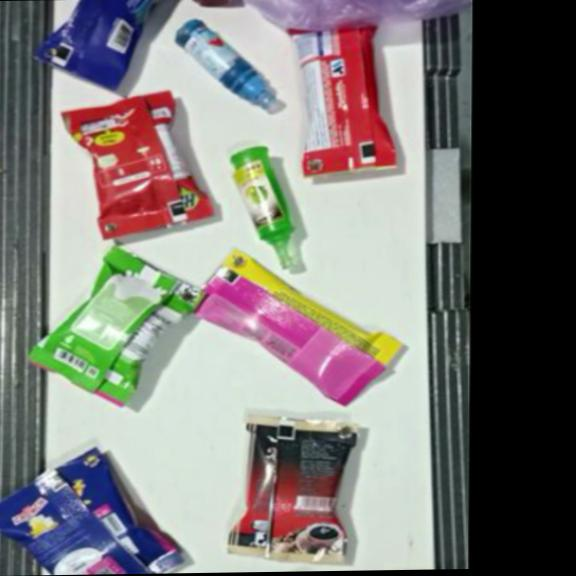Plastik: (193, 245, 404, 408), (29, 245, 207, 408), (0, 445, 184, 576), (60, 90, 215, 240), (227, 412, 359, 566), (285, 19, 398, 175), (34, 0, 161, 91), (174, 16, 278, 110), (228, 144, 297, 269), (241, 0, 471, 30)
